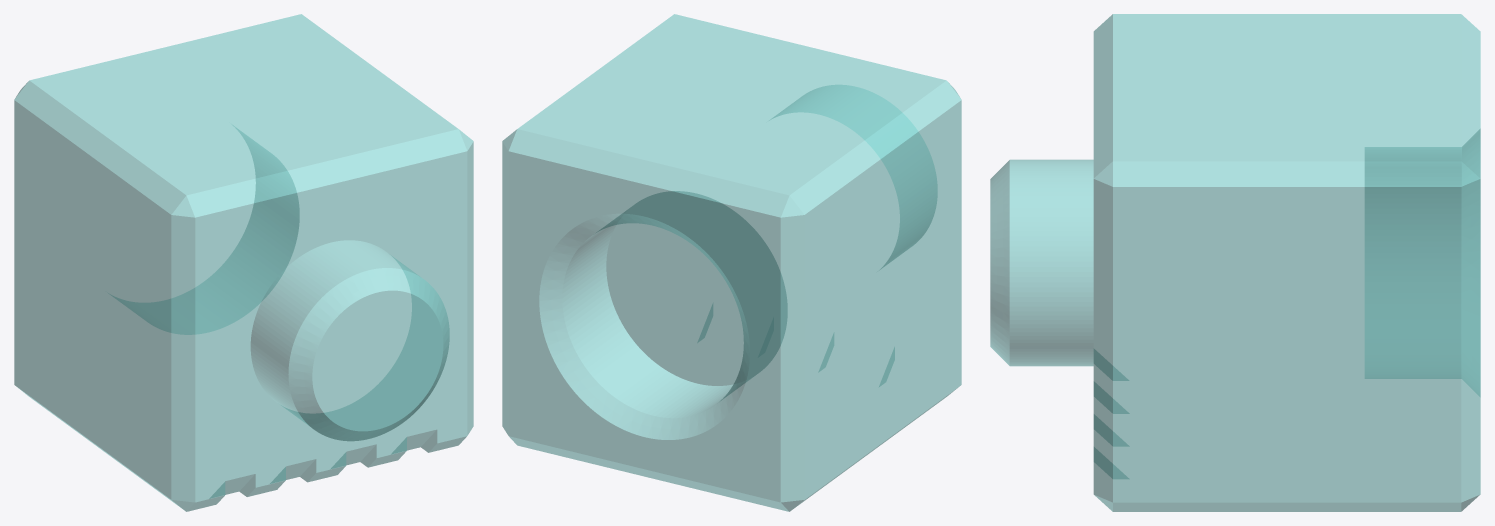
The model's file is coupon-crystal-socket-40@crystal.glb.
3 renders of one model, left to right at view 1: azimuth 30°, elevation 25°; view 2: azimuth 150°, elevation 25°; view 3: azimuth 270°, elevation 25°, orthographic. The views are drawn at different scales.
Parts seen in each view (by area): view 1: geometry_0; view 2: geometry_0; view 3: geometry_0.
Boxes of the visible parts, <box> form: geometry_0: <box>14,14,473,511</box>; geometry_0: <box>502,14,961,511</box>; geometry_0: <box>990,14,1480,511</box>.
Size of the model in its own units: 6 by 6 by 7.6.
